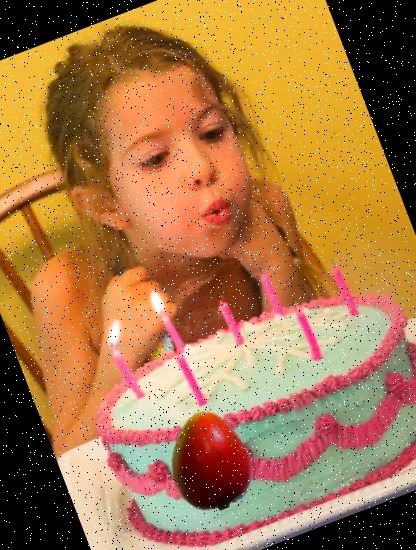Mango: (144, 396, 273, 526)
